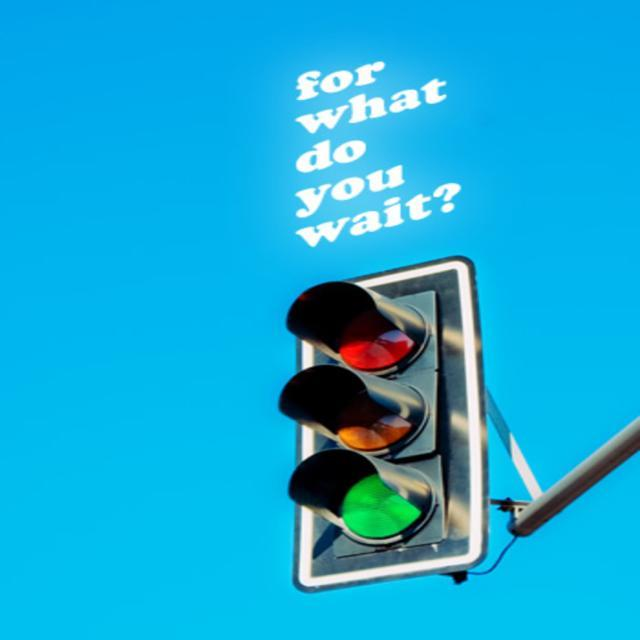traffic light: (277, 280, 444, 557)
